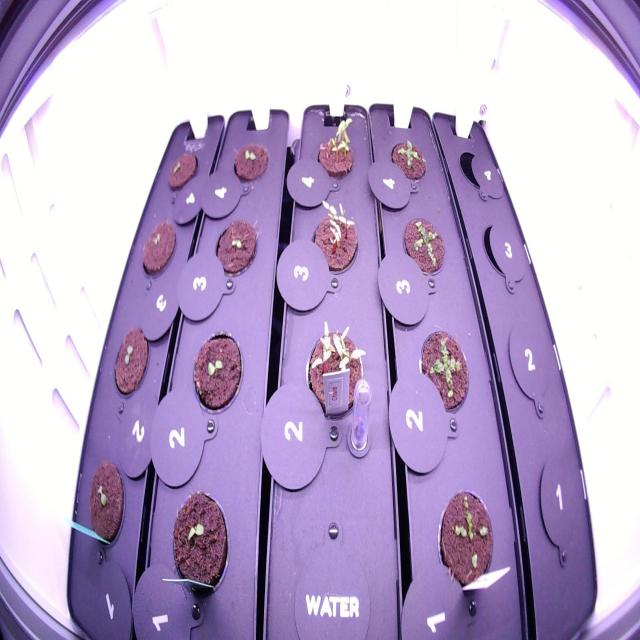empty_pod: (534, 443, 588, 561), (505, 313, 553, 411), (477, 209, 527, 289), (453, 142, 496, 196)
germination: (163, 482, 235, 608), (302, 312, 371, 438), (432, 478, 503, 600), (413, 320, 475, 422), (303, 194, 364, 284), (188, 326, 246, 419), (81, 454, 130, 558), (308, 108, 362, 189), (399, 209, 452, 286), (109, 318, 153, 408), (209, 213, 261, 287), (136, 210, 178, 287), (382, 133, 430, 195), (225, 136, 272, 188), (162, 143, 201, 196)
